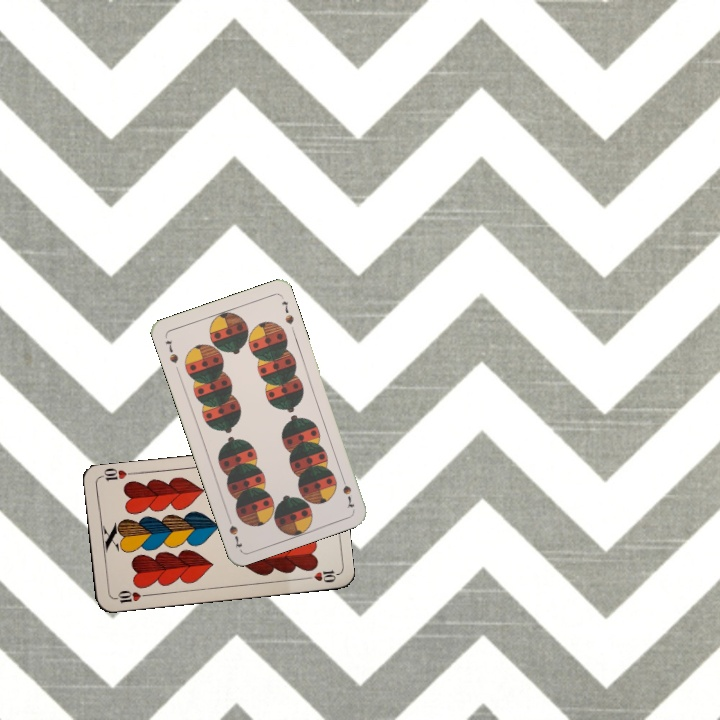H10: (110, 586, 151, 606)
S7: (337, 472, 357, 511), (161, 336, 181, 366)
